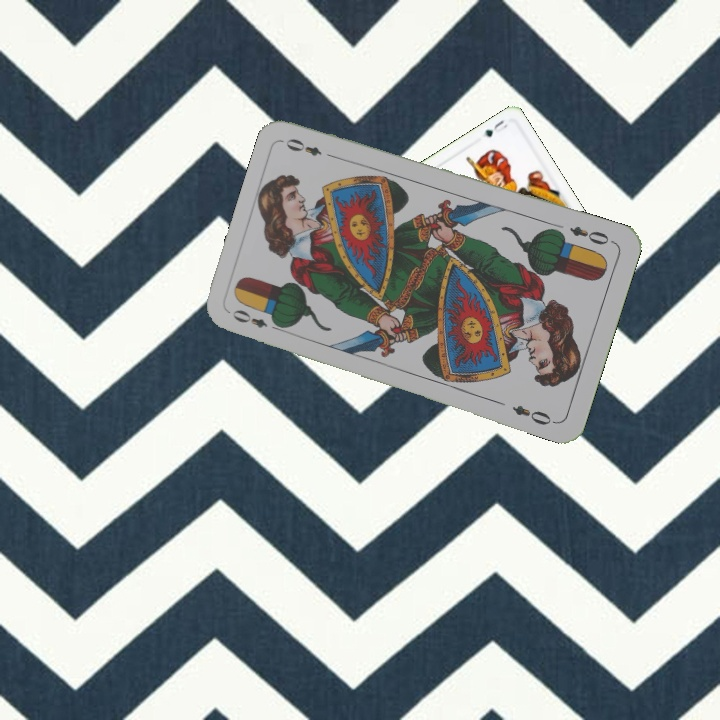EO: (228, 305, 285, 334), (565, 221, 617, 248)
GU: (481, 116, 510, 140)
